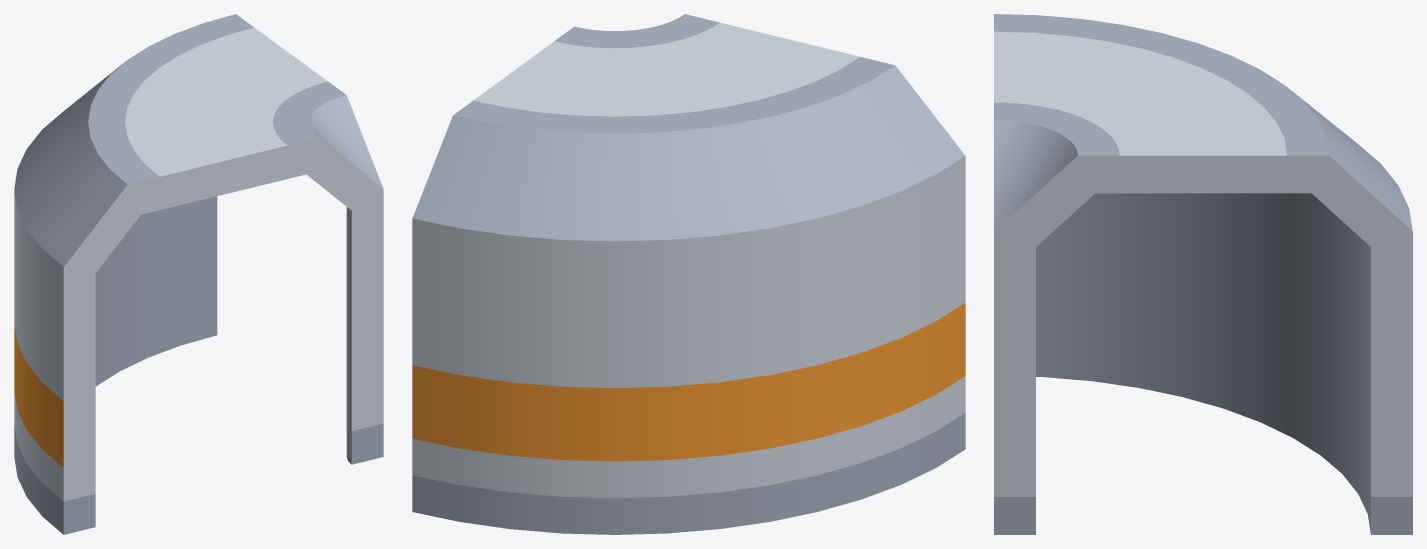
The model's file is corridor_cornerRound.fbx.
The picture shows the model from 3 angles, left to right: view 1: azimuth 30°, elevation 25°; view 2: azimuth 150°, elevation 25°; view 3: azimuth 270°, elevation 25°; orthographic projection. The views are drawn at different scales.
Visible parts, largest first — view 1: corridor_cornerRound; view 2: corridor_cornerRound; view 3: corridor_cornerRound.
Part boxes in pixels (x1,y1,x2,y2): corridor_cornerRound: (14, 14, 383, 534); corridor_cornerRound: (412, 14, 965, 534); corridor_cornerRound: (994, 14, 1412, 534).
Size of the model in its own units: 10 by 10 by 10.
